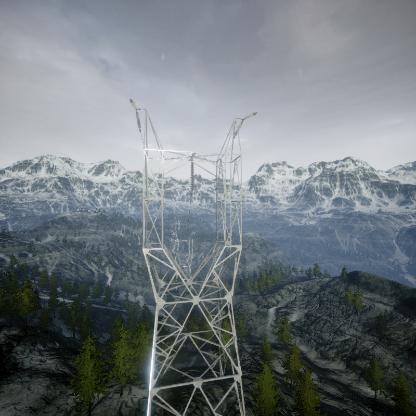tower: (131, 101, 250, 416)
